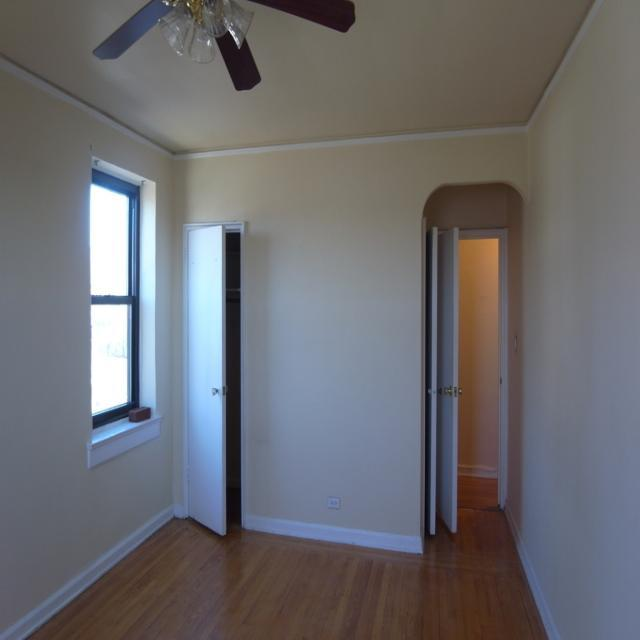bulb_off: (224, 7, 258, 51), (160, 5, 190, 54), (188, 21, 220, 58), (199, 0, 232, 35)
fan_off: (92, 1, 354, 90)
